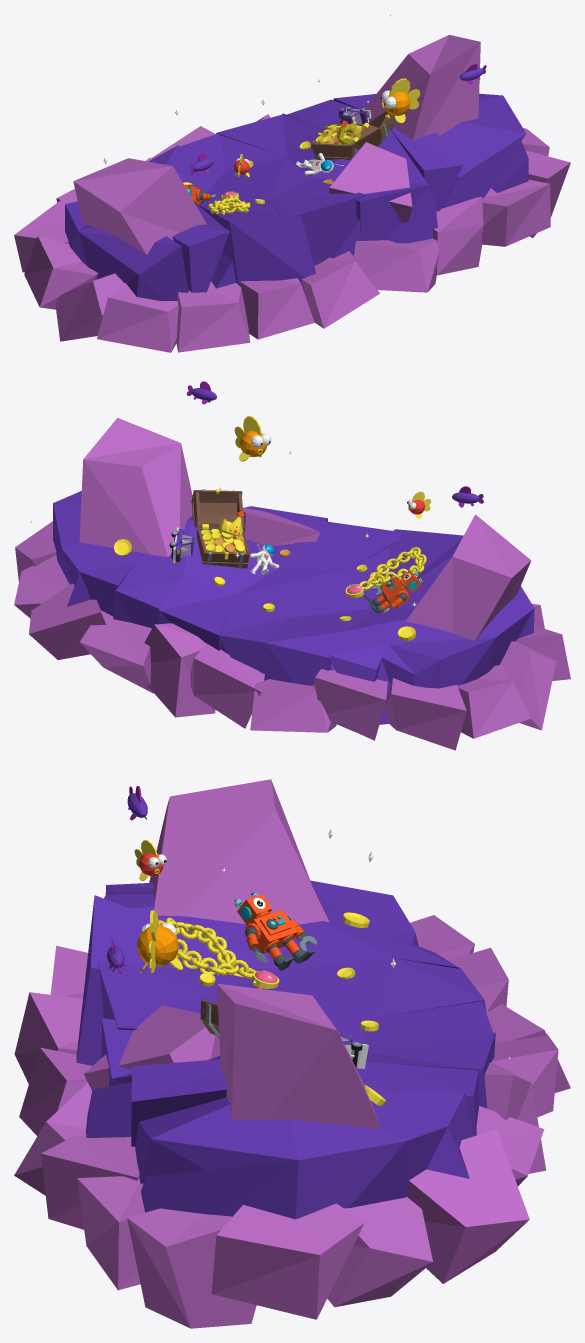
File: UndertheSea.glb
3 renders of one model, top to bottom at view 1: azimuth 30°, elevation 25°; view 2: azimuth 150°, elevation 25°; view 3: azimuth 270°, elevation 25°, orthographic. The views are drawn at different scales.
Visible parts, largest first — view 1: group938294867, group346353283, group685469970, group699823051, group1514700289, group810189517, group967451051, group122302619, group2014525625, group2006633998, group520822650, group382973645 (+10 smaller); view 2: group938294867, group685469970, group346353283, group1450045553, group1859506793, group109194806, group1172106769, group1514744309, group97774442, group2141108688, group520822650, group1367773465 (+10 smaller); view 3: group938294867, group346353283, group685469970, group704623174, group2141108688, group408322312, group612392218, group967451051, group382973645, group2006633998, group2014525625, group122302619 (+12 smaller).
Part boxes in pixels (x1,y1,x2,y2): group938294867: (64, 93, 528, 300); group346353283: (73, 158, 206, 254); group685469970: (365, 35, 480, 140); group699823051: (176, 281, 250, 352); group1514700289: (97, 283, 178, 352); group810189517: (354, 238, 439, 292); group967451051: (481, 179, 550, 246); group122302619: (301, 251, 379, 328); group2014525625: (239, 278, 314, 339); group2006633998: (329, 142, 412, 223); group520822650: (24, 236, 98, 309); group382973645: (433, 197, 483, 275); group938294867: (53, 491, 534, 731); group685469970: (79, 418, 192, 556); group346353283: (406, 514, 531, 640); group1450045553: (384, 678, 466, 750); group1859506793: (144, 623, 215, 717); group109194806: (191, 489, 249, 568); group1172106769: (190, 643, 264, 728); group1514744309: (250, 679, 336, 732); group97774442: (314, 669, 387, 740); group2141108688: (29, 583, 105, 659); group520822650: (457, 664, 531, 738); group1367773465: (80, 610, 153, 693); group938294867: (76, 880, 495, 1219); group346353283: (149, 779, 329, 924); group685469970: (217, 983, 381, 1129); group704623174: (211, 1203, 364, 1319); group2141108688: (407, 1129, 529, 1283); group408322312: (127, 1208, 256, 1328); group612392218: (327, 1197, 432, 1307); group967451051: (77, 1176, 144, 1290); group382973645: (41, 1134, 139, 1229); group2006633998: (84, 1005, 220, 1090); group2014525625: (14, 992, 82, 1083); group122302619: (19, 1047, 91, 1135).
Bounding box in the file's own units: 5.34 × 2.26 × 3.3.
